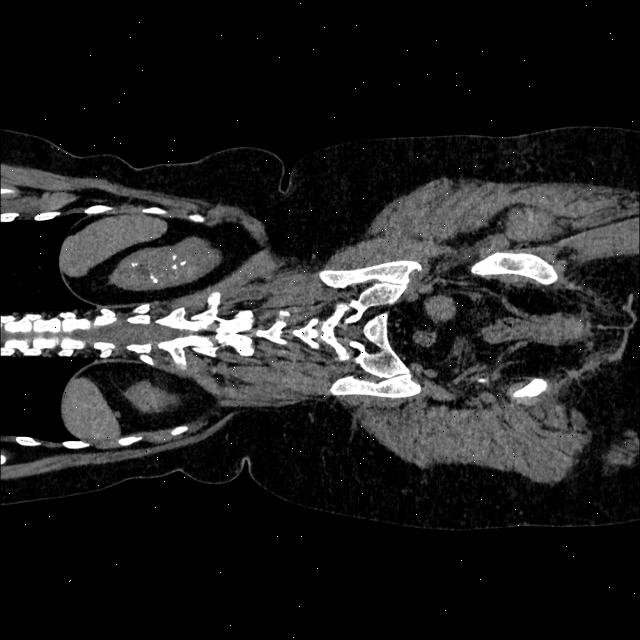kidneystone: (150, 274, 158, 282), (171, 254, 177, 261), (171, 262, 177, 269), (131, 261, 139, 266), (179, 260, 186, 265)
